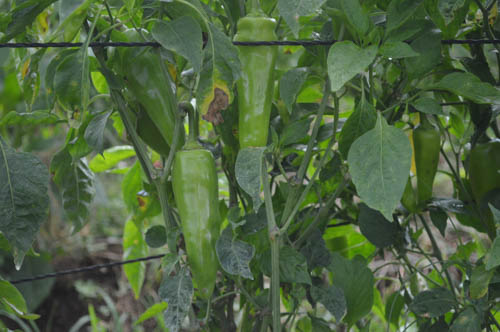ChiliPepper: (120, 32, 184, 145), (173, 150, 218, 285), (233, 17, 276, 151), (411, 128, 440, 207), (467, 140, 496, 207)
